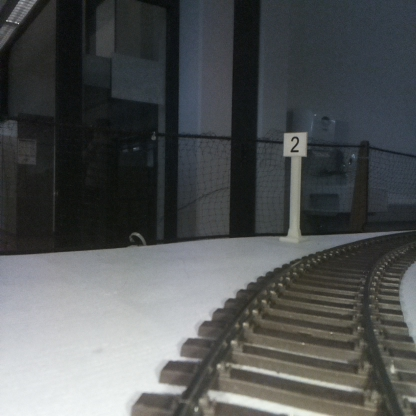white-info-2: (283, 131, 307, 240)
